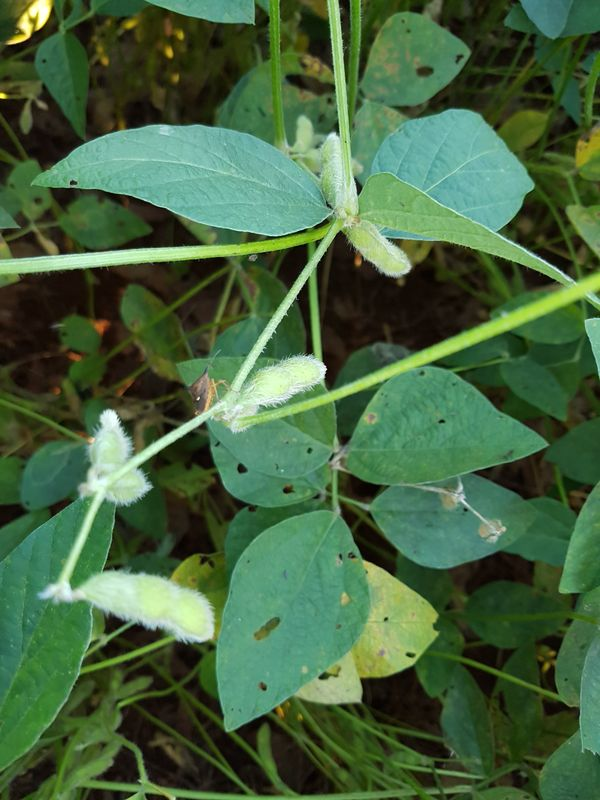Euschistus_heros_adulto: (177, 362, 241, 423)
